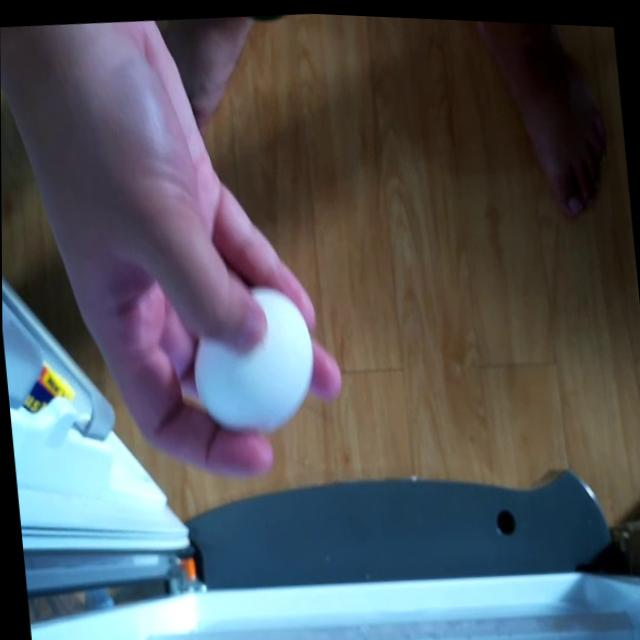egg: (184, 270, 328, 444)
